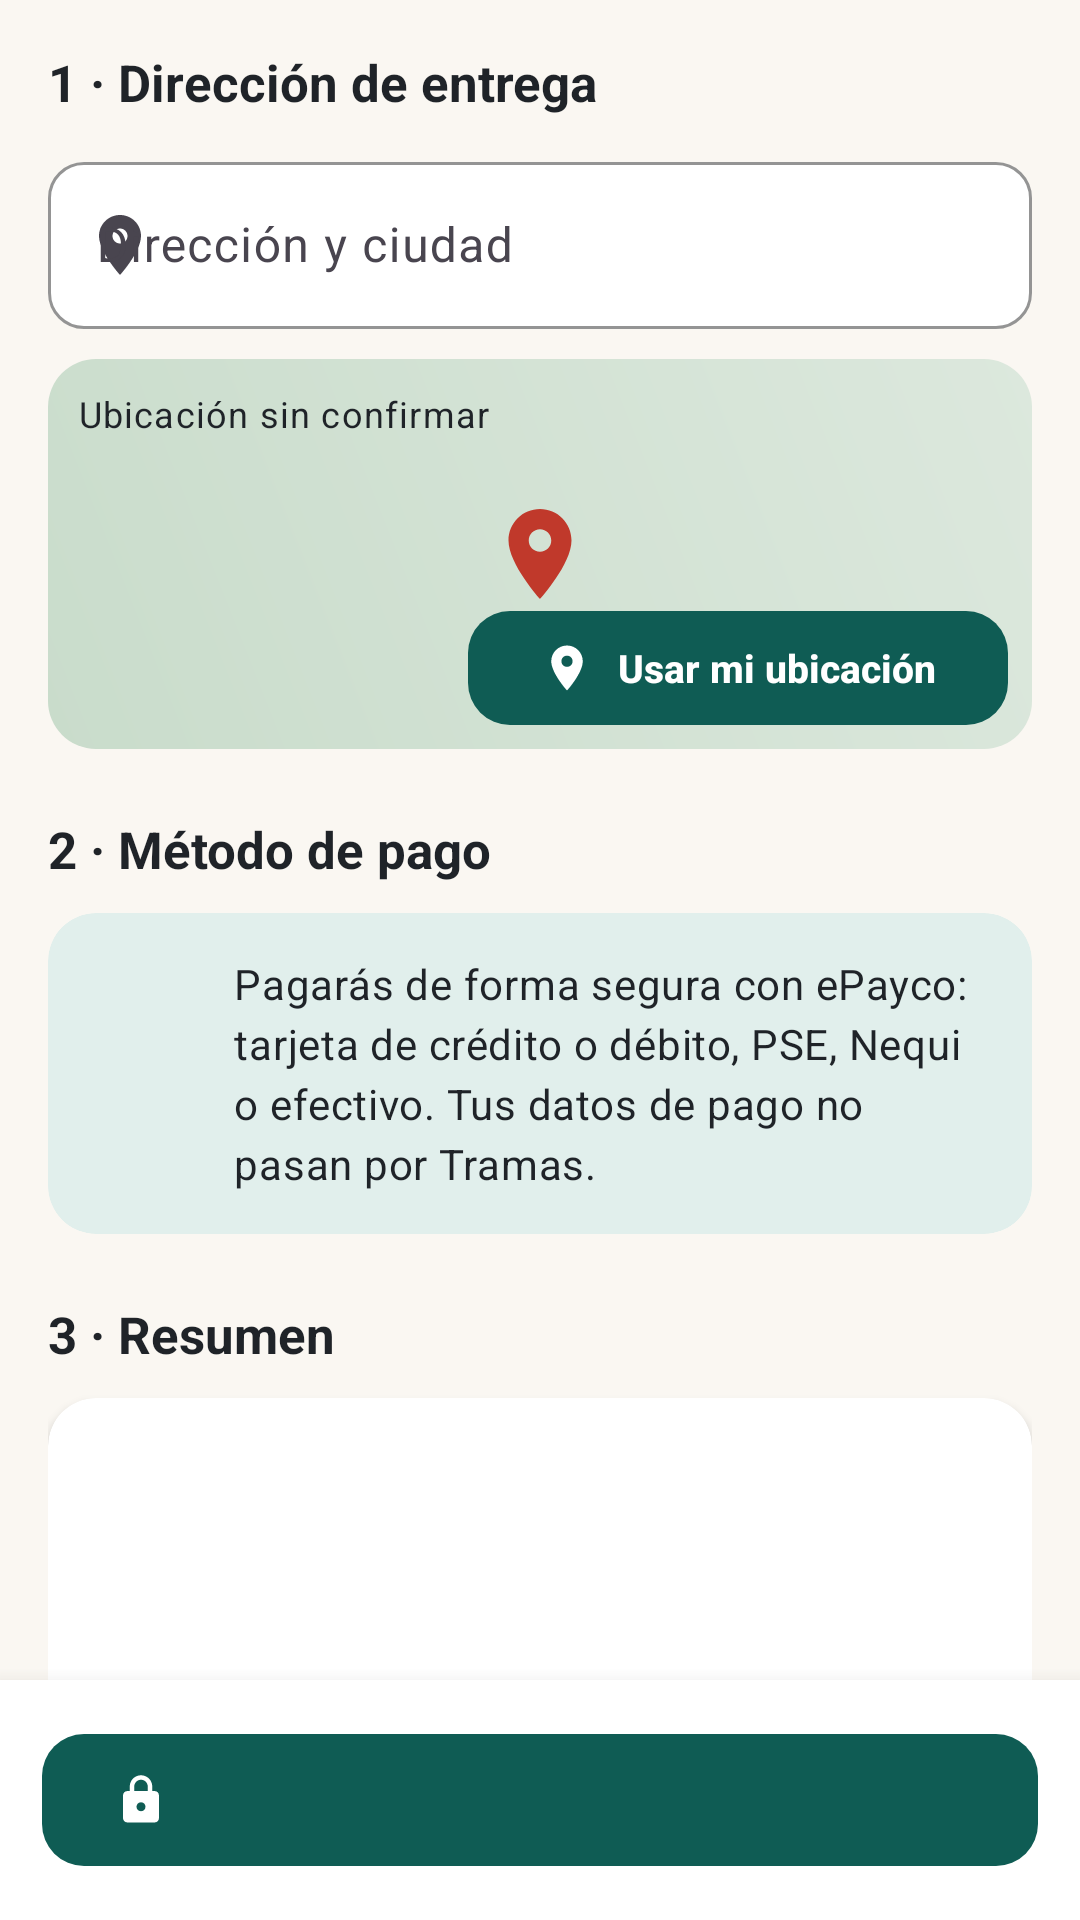

Locate icon controls on the screen. Image size 1080*1920, boxes as (x1,y1,x2,y2).
location: (508,509,572,599)
